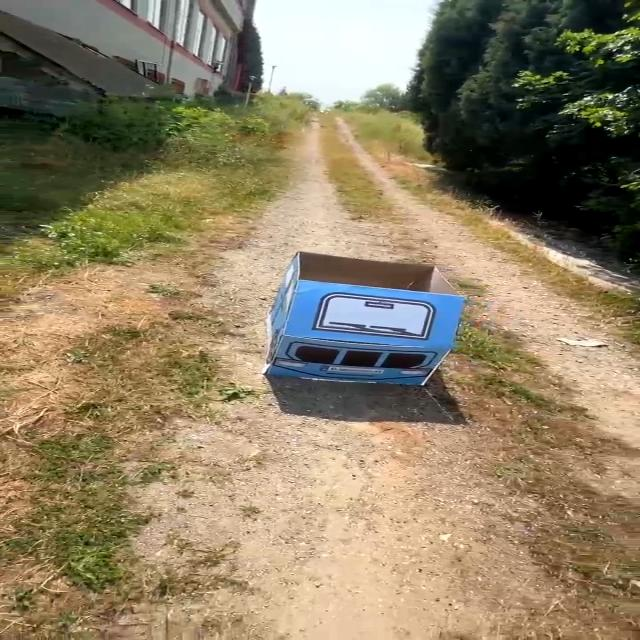blue_car: (235, 236, 489, 416)
